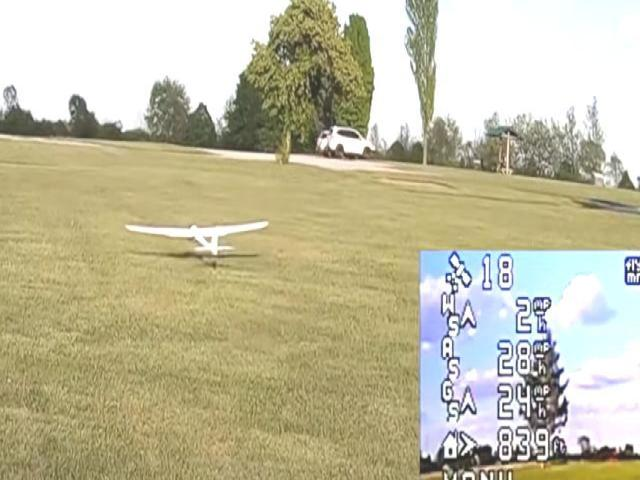iha: (126, 214, 266, 255)
